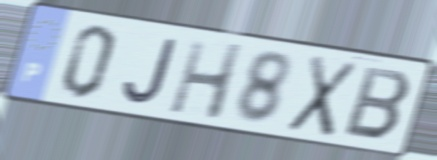0: (58, 21, 119, 103)
8: (234, 47, 293, 128)
B: (340, 63, 415, 143)
H: (166, 38, 248, 124)
J: (120, 35, 182, 107)
X: (283, 51, 362, 141)
